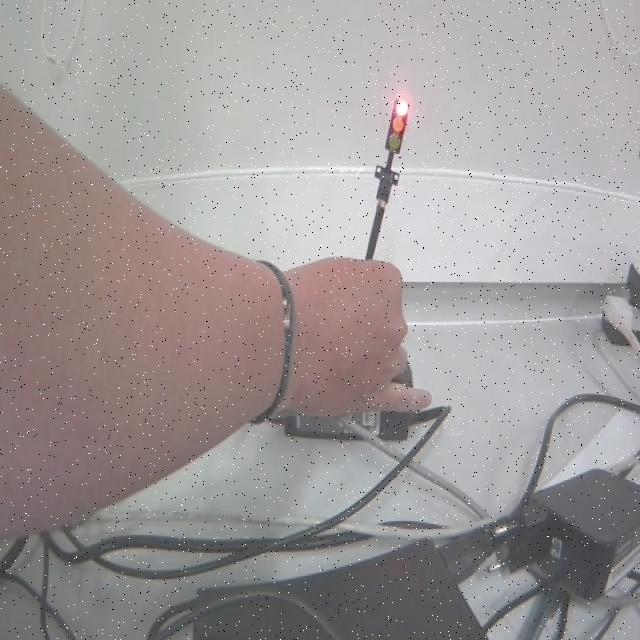Lampu Merah: (385, 96, 410, 151)
